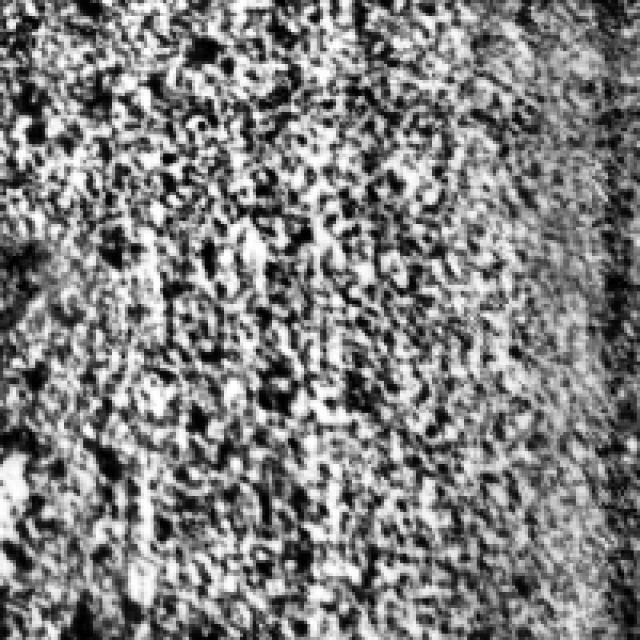Rolled_in_Scale: (0, 0, 409, 598)
